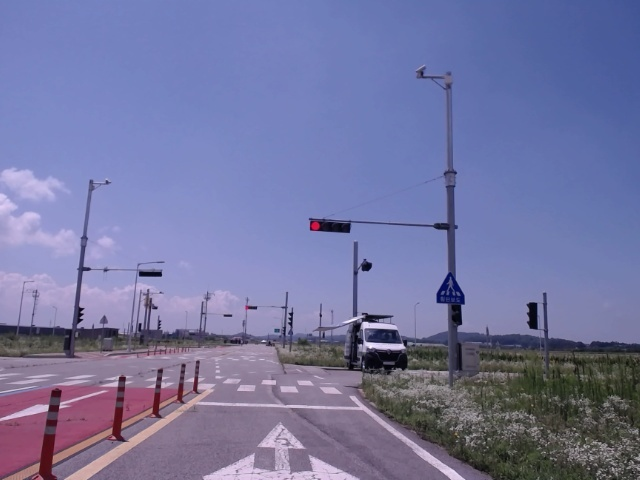red_4: (310, 219, 350, 233)
